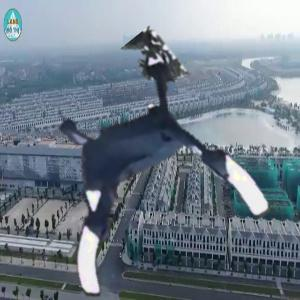drone: (23, 70, 248, 295)
